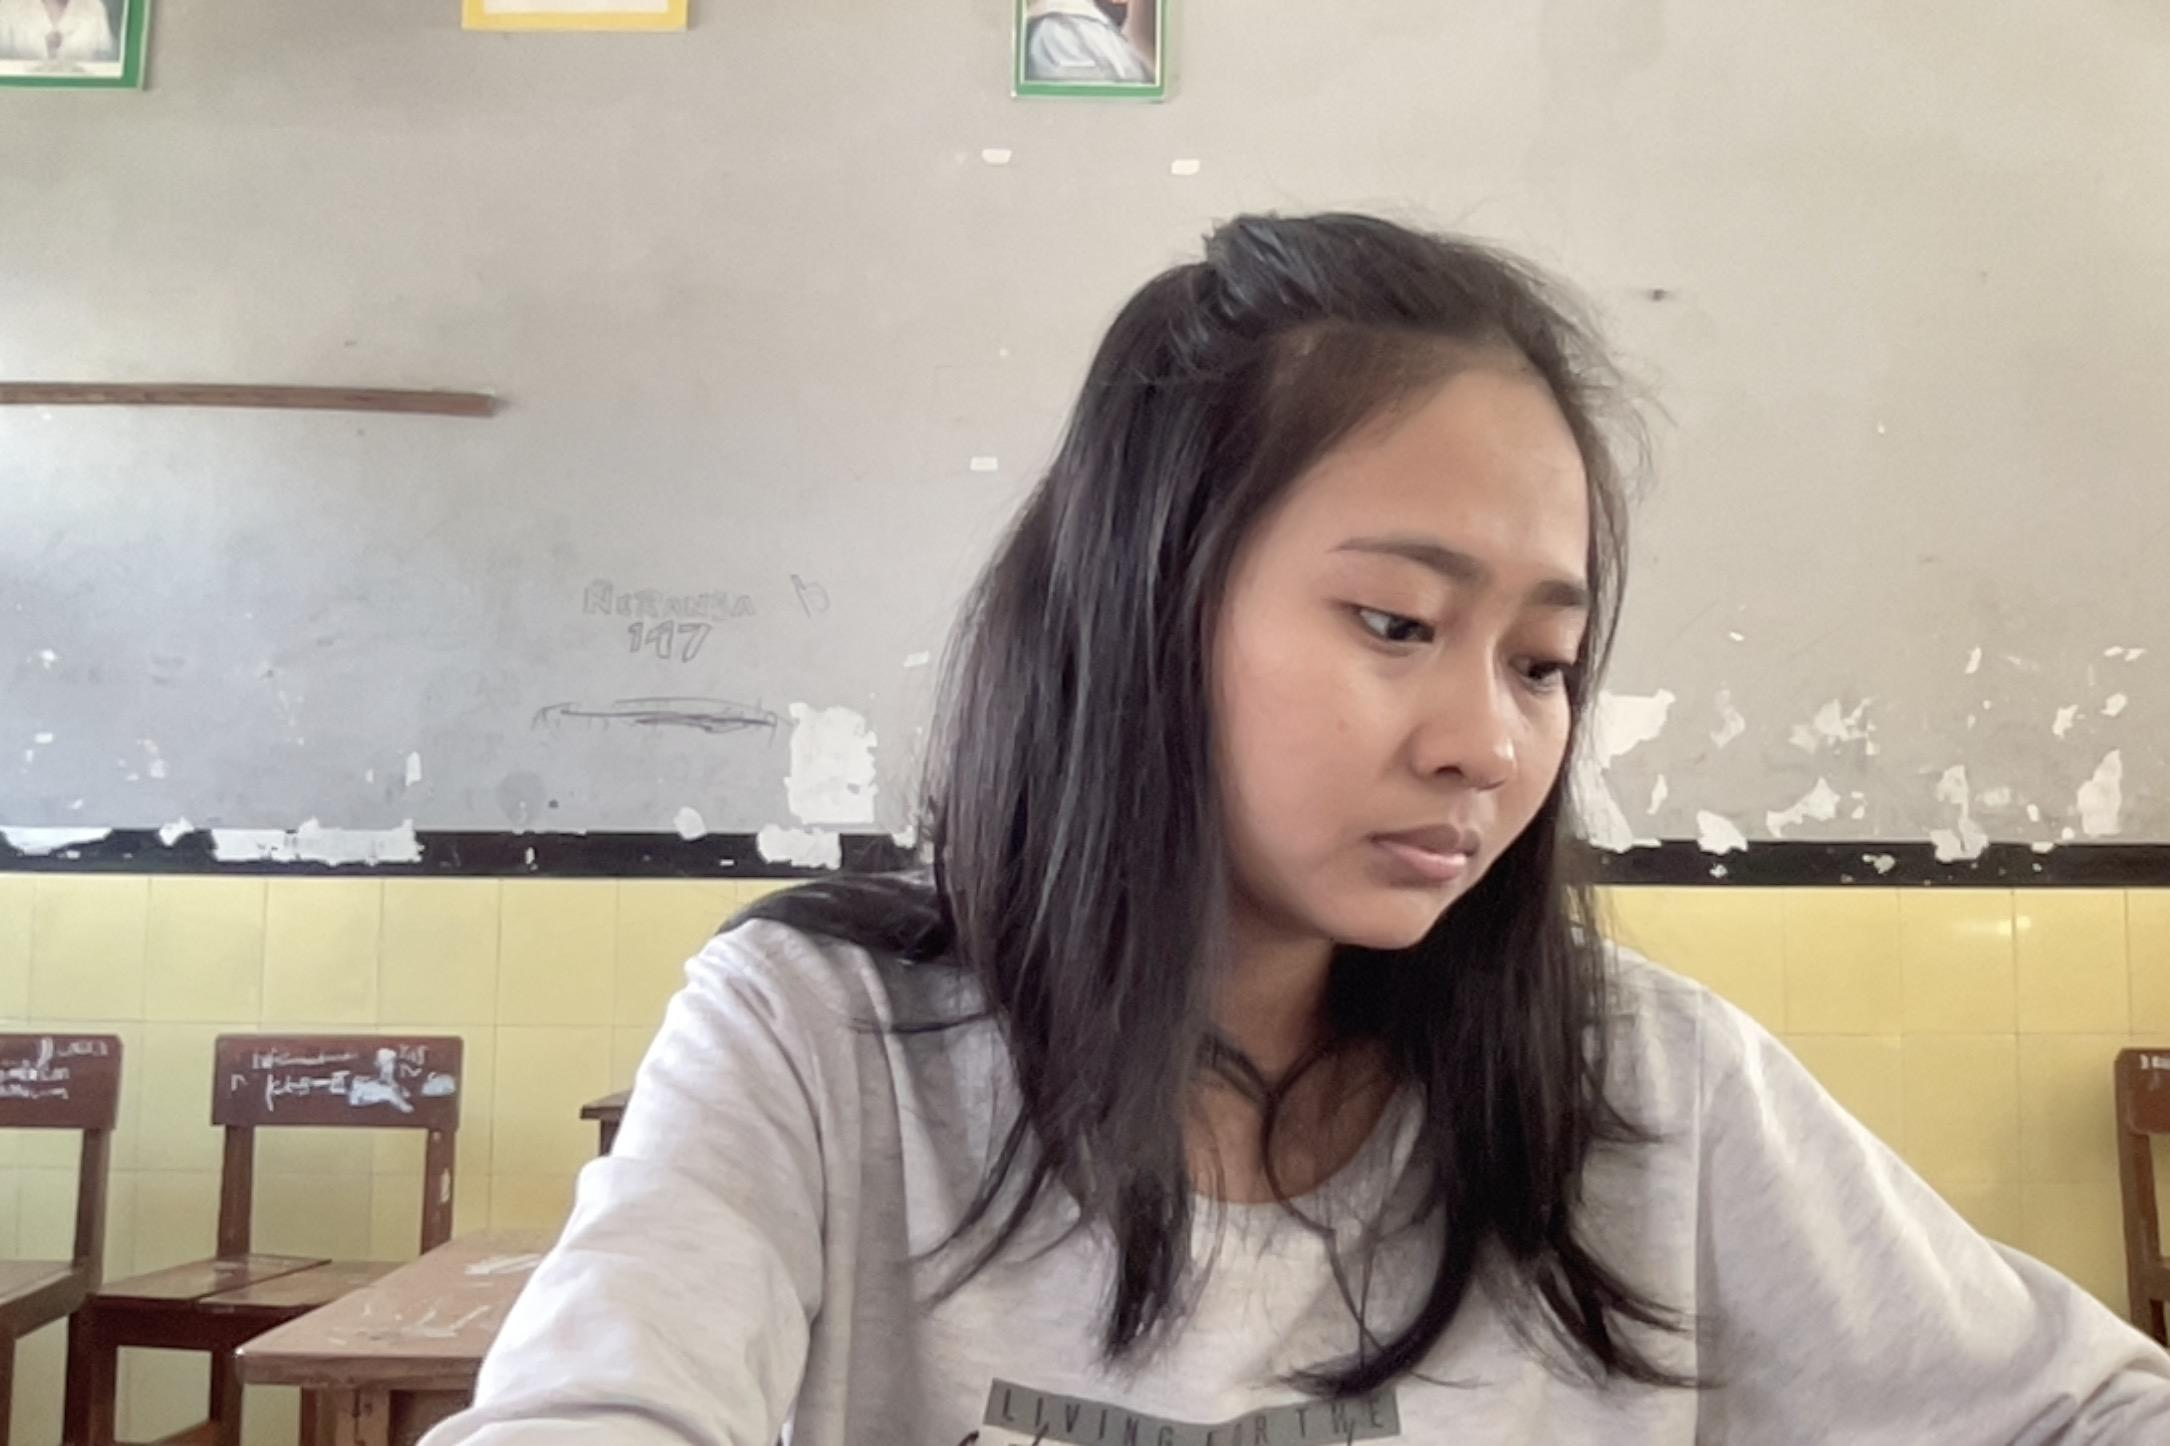cheating: (444, 178, 2170, 1446)
